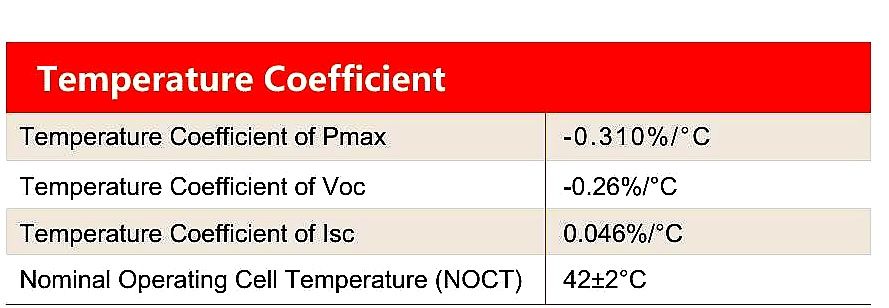table: (1, 37, 876, 308)
table column: (9, 44, 547, 304), (545, 44, 869, 302)
table name: (6, 46, 868, 109)
table row: (8, 47, 867, 108), (6, 163, 871, 210), (6, 114, 869, 160), (4, 257, 874, 301), (6, 214, 872, 255)
table row header: (6, 44, 547, 303)
table spanning cell: (6, 44, 866, 110)
